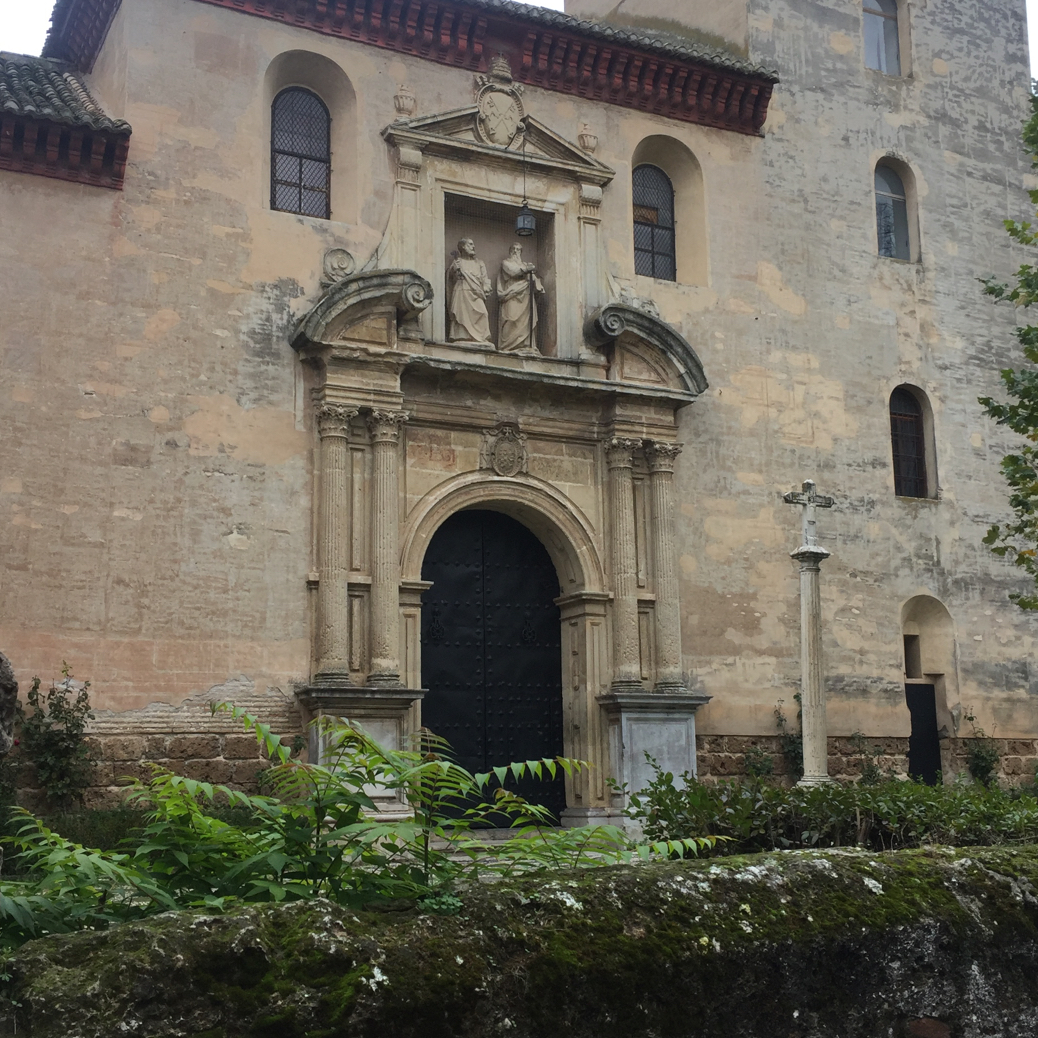arco-medio-punto: (405, 480, 599, 621)
fronton: (382, 98, 614, 181)
fronton-partido: (296, 269, 705, 401)
vano-adintelado: (428, 167, 567, 349)
